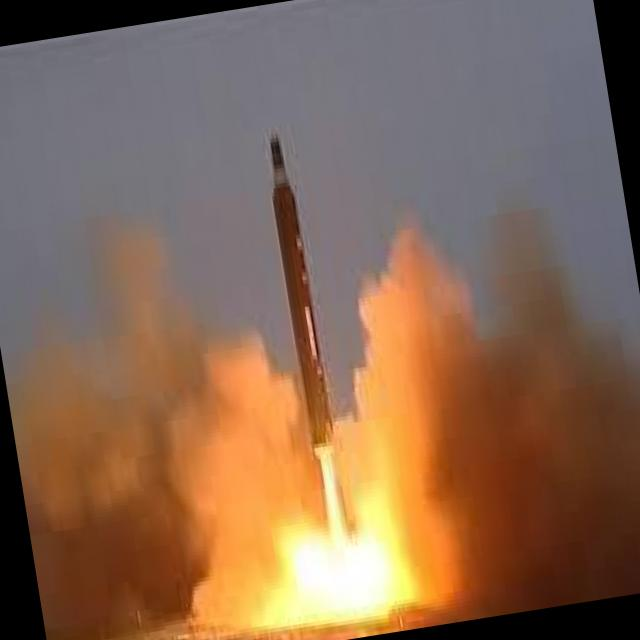rocket: (256, 120, 367, 600)
